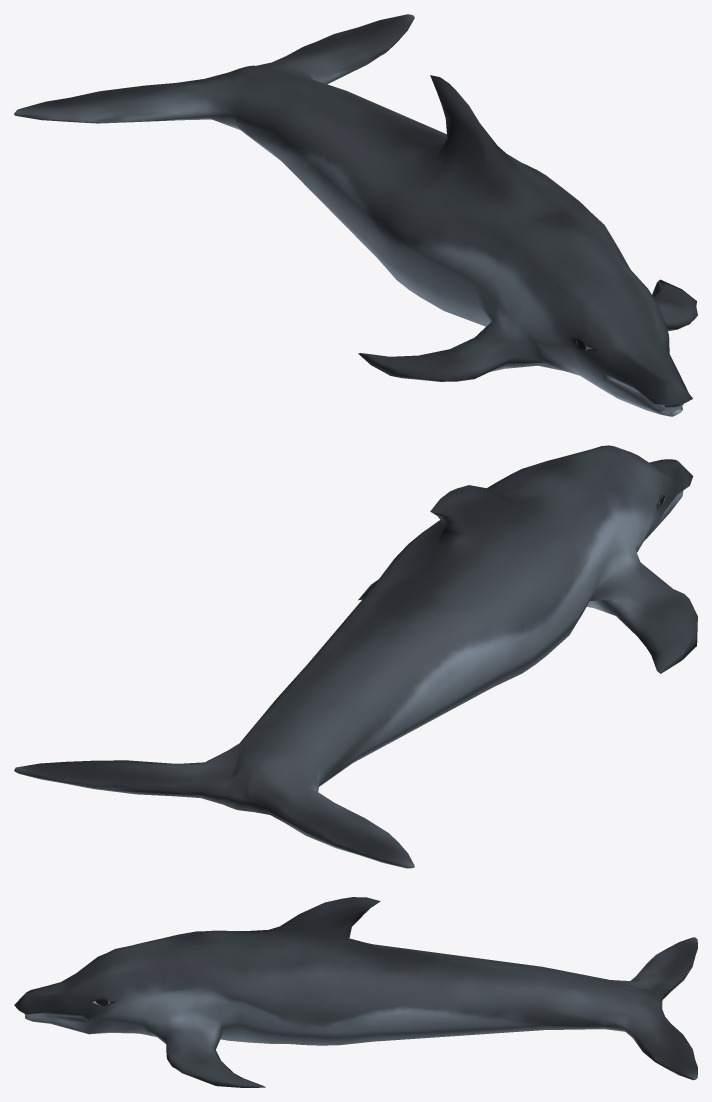
File: Dolphin.fbx
3 views of the same model, one above another, from view 1: azimuth 30°, elevation 25°; view 2: azimuth 150°, elevation 25°; view 3: azimuth 270°, elevation 25° (orthographic). The views are drawn at different scales.
Visible parts, largest first — view 1: DolphinLowPoly; view 2: DolphinLowPoly; view 3: DolphinLowPoly.
Part boxes in pixels (bbox=[...]): DolphinLowPoly: bbox=[14, 14, 697, 416]; DolphinLowPoly: bbox=[14, 445, 697, 868]; DolphinLowPoly: bbox=[14, 897, 697, 1087].
Size of the model in its own units: 210 by 97.12 by 429.
Materials: 1 (1 with a texture image).
